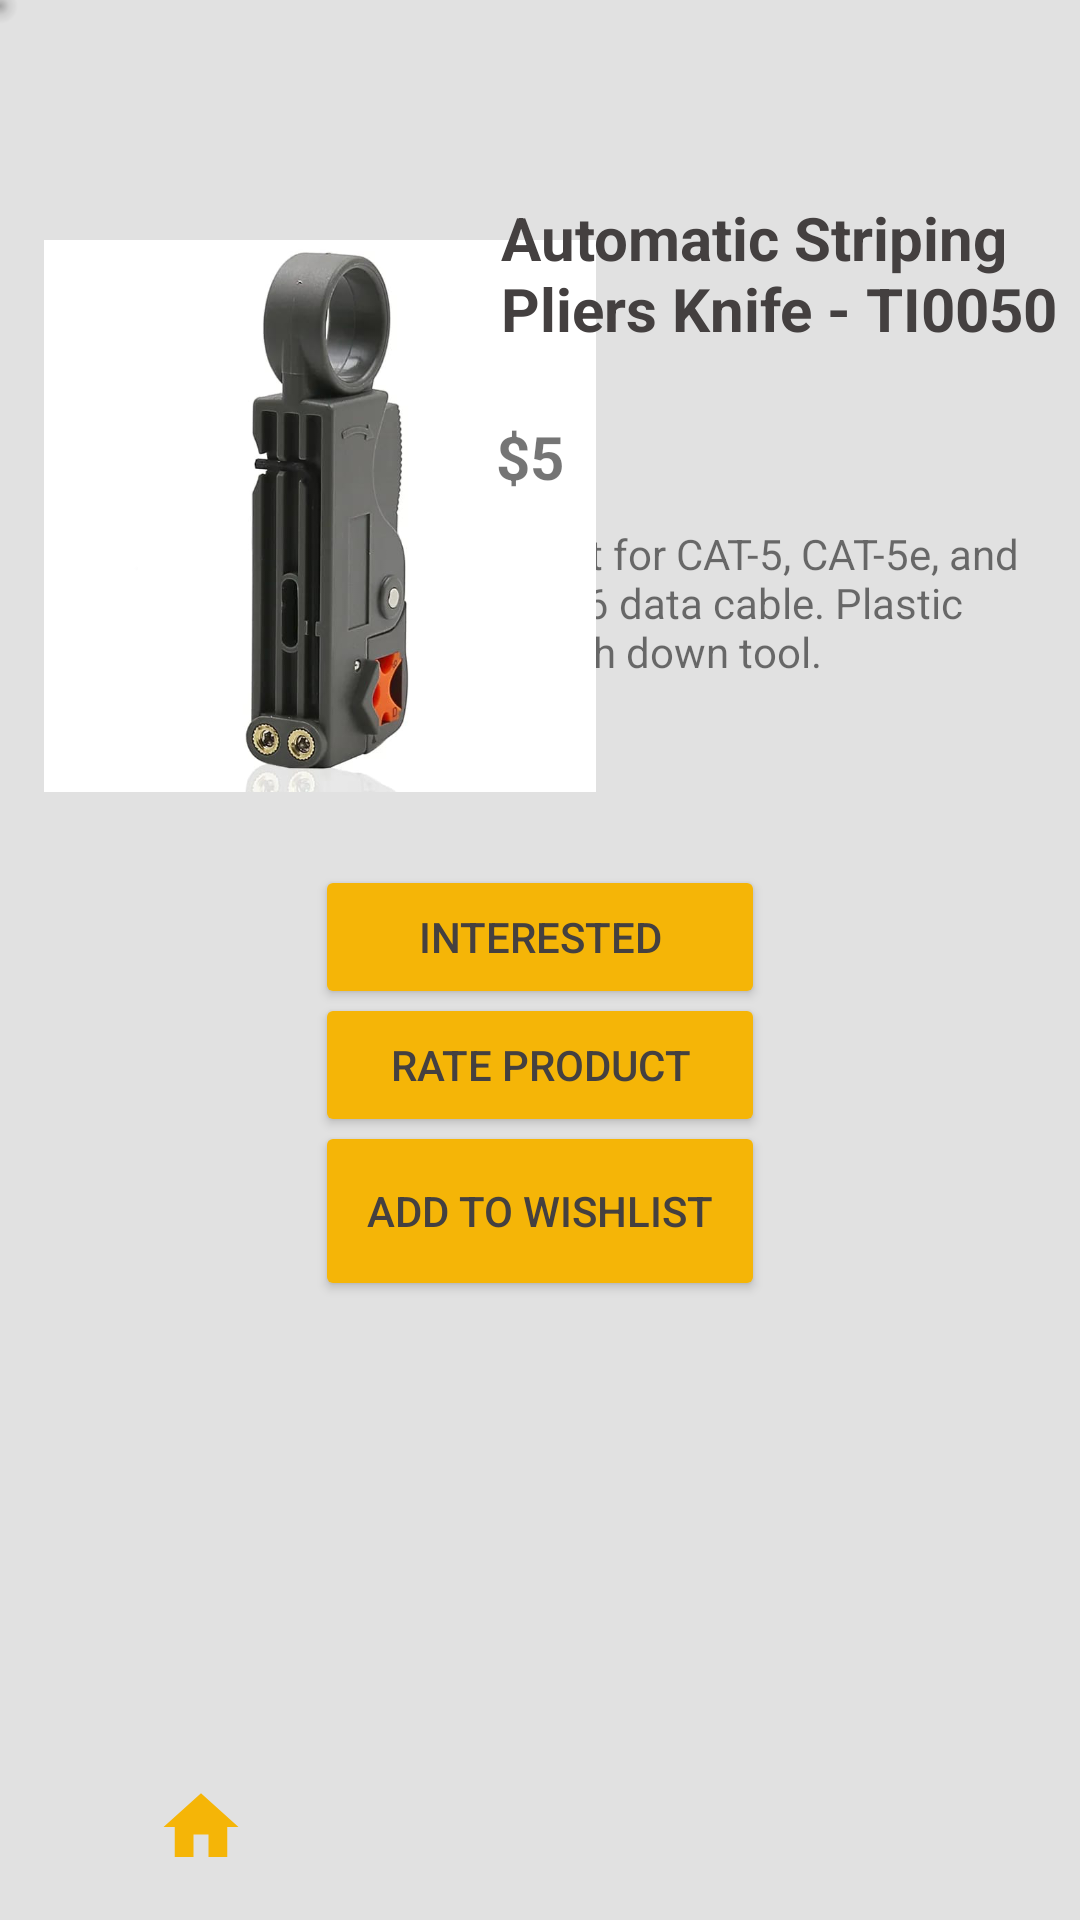

Named icons in this screenshot (1080*1920) and their centers, [x,y]:
home: [201,1825]
